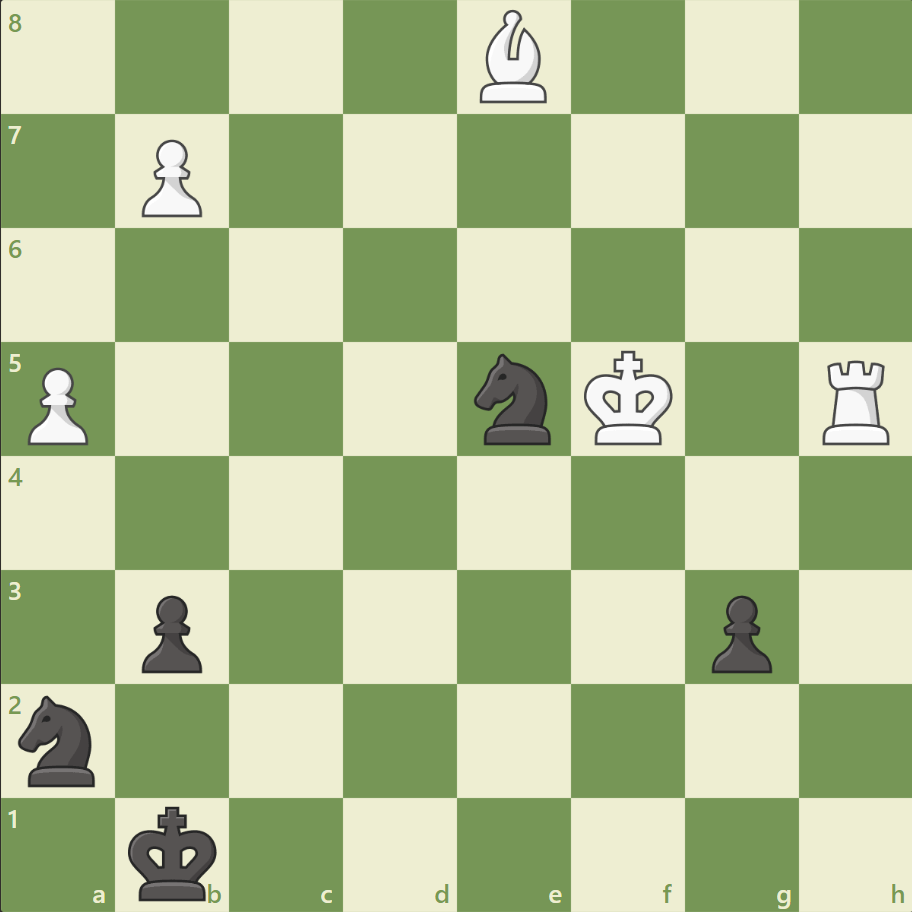B: (471, 6, 555, 109)
K: (579, 344, 679, 452)
P: (133, 132, 208, 223), (20, 359, 95, 450)
R: (814, 352, 897, 449)
k: (124, 798, 224, 906)
n: (11, 688, 108, 791), (465, 348, 562, 450)
p: (133, 586, 208, 677), (701, 586, 776, 677)
